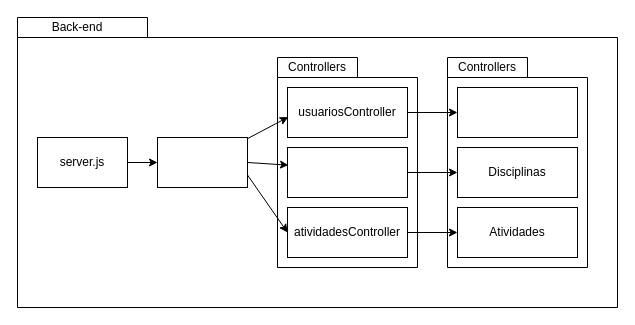
Image size: 635x325. Some labels were removed from this diagram. Each missing label, with the centre of its shape:
disciplinasController: the point at 347,172
routes.js: the point at 202,162
Usuarios: the point at 517,112
